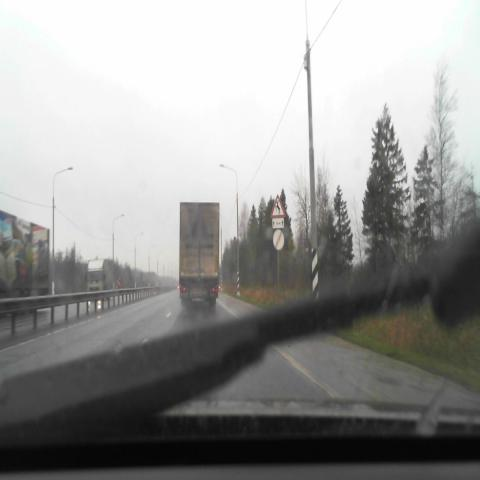1_27: (270, 194, 286, 217)
3_31: (273, 229, 284, 250)
